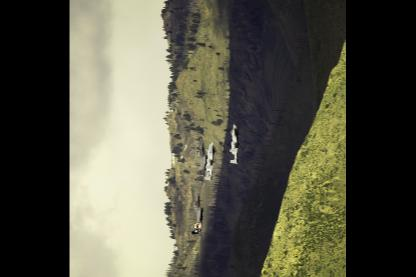A10: (204, 140, 215, 181), (230, 123, 240, 164)
F117: (194, 141, 208, 188), (190, 194, 203, 241)
